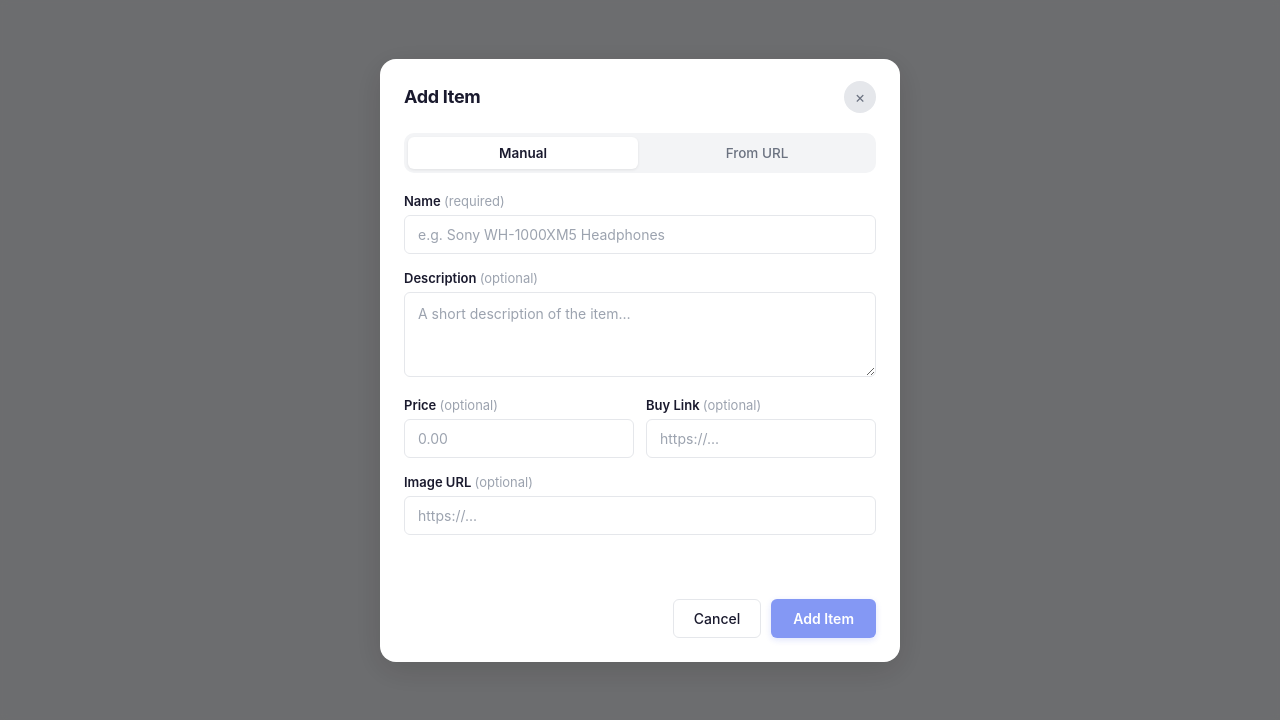
Scenario: AddItemModal – layout › Add Item button is enabled when name is filled
In the field labelled "Name (required)": x=640, y=234 top-left (404, 214), bottom-right (876, 254), type "Widget"
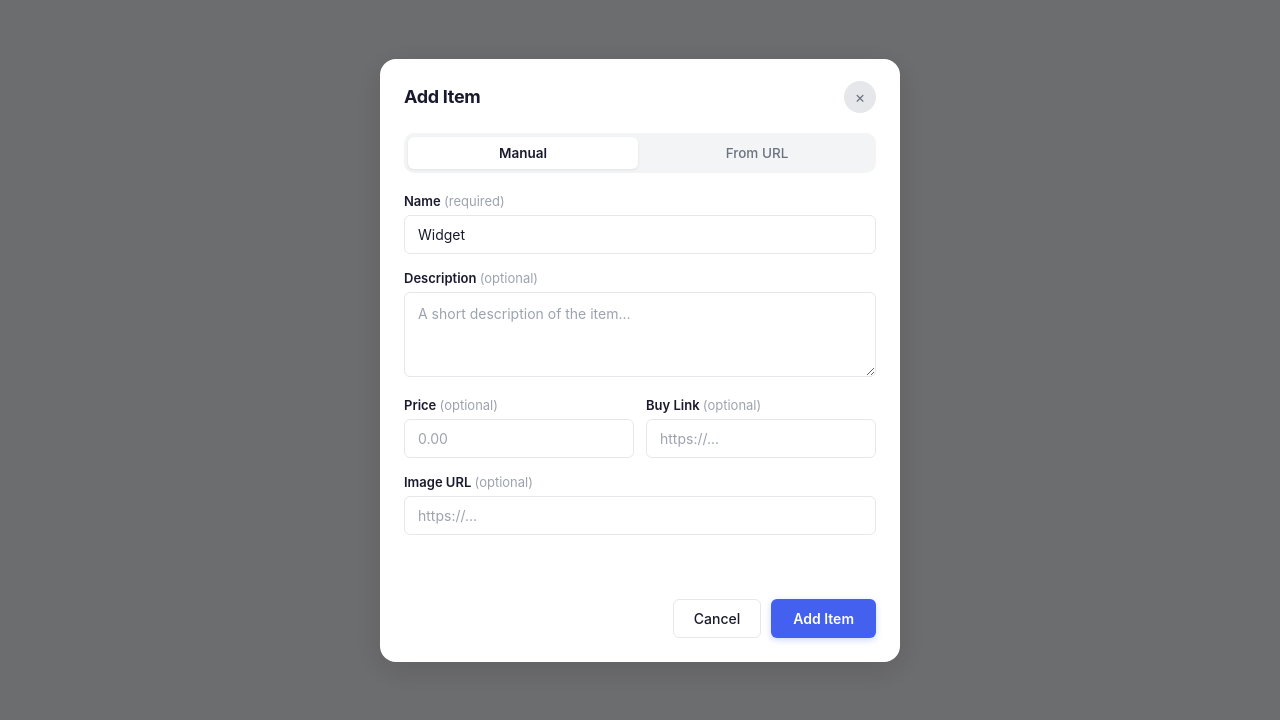
Expected: the button "Add Item" is enabled, top-left (771, 598), bottom-right (876, 638)
